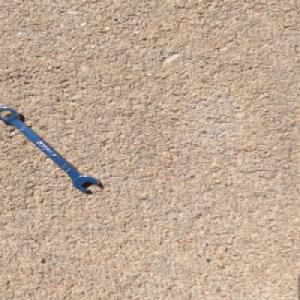Wrench: (0, 105, 103, 192)
